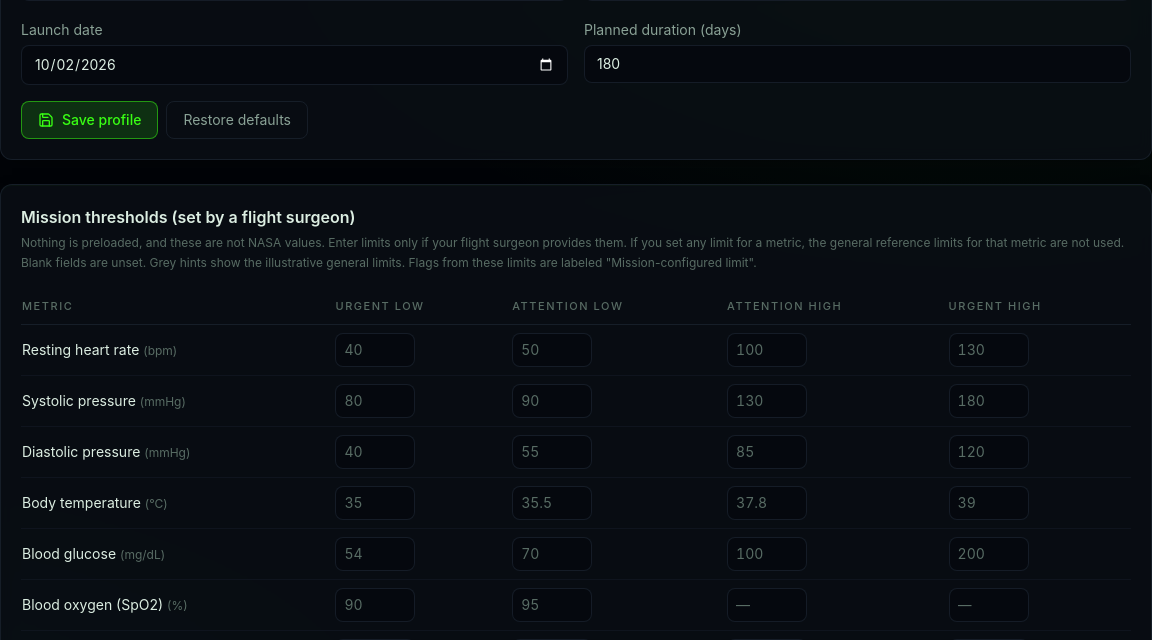
Test case: Settings › saves valid mission thresholds and rejects out-of-order ones
The image size is (1152, 640).
(page scrolled)
Type "70" into the field named "Resting heart rate attention high" at point(767, 350), box [727,333,807,367]
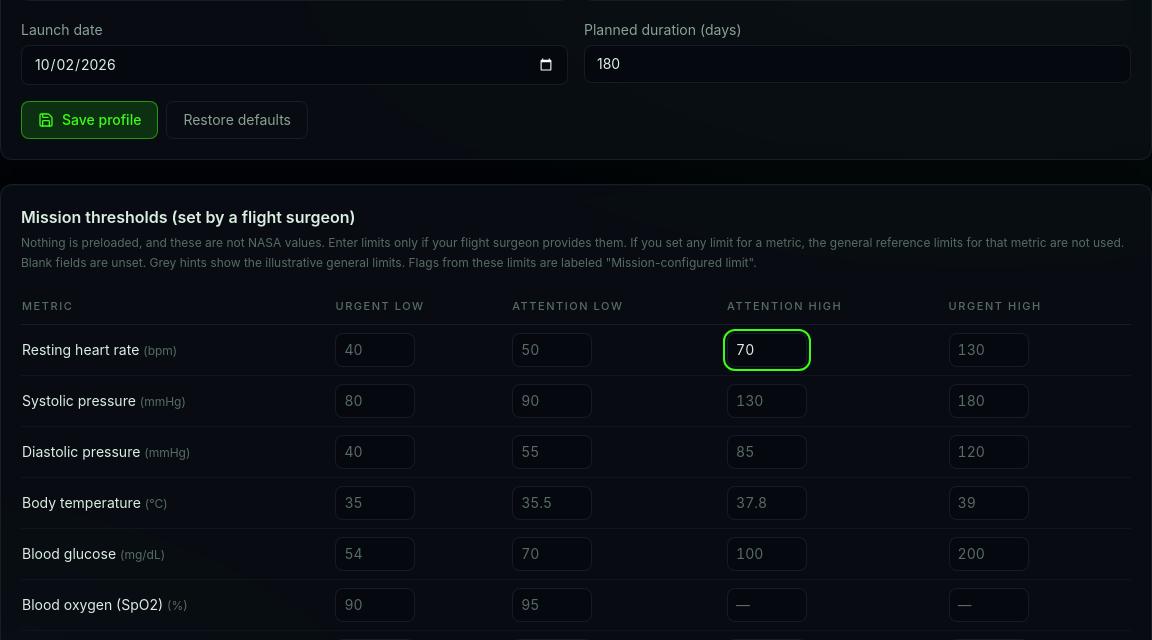
Type "60" into the field named "Resting heart rate urgent high" at point(989, 350), box [949,333,1029,367]
(page scrolled)
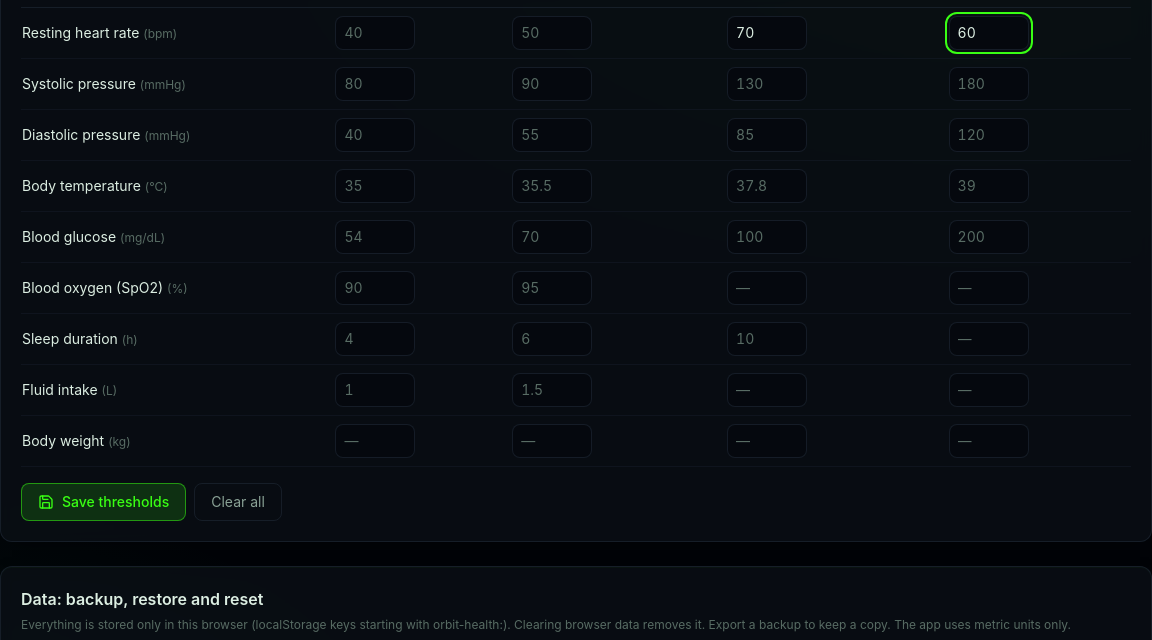
Click the button "Save thresholds" at point(104, 502), box [21,483,186,521]
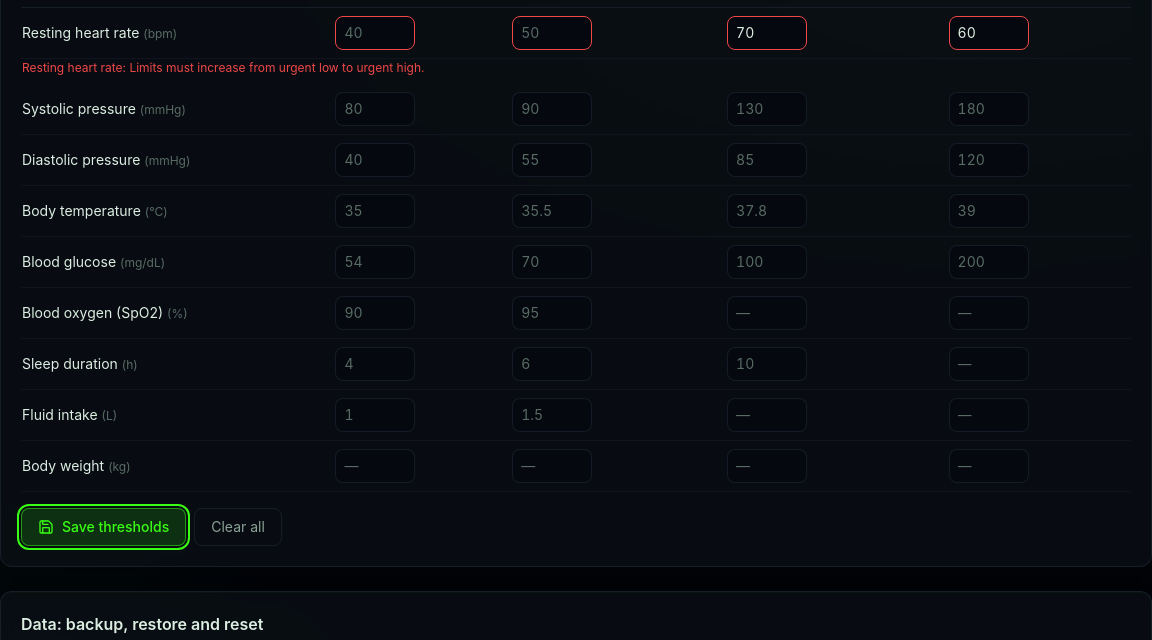
expect the text "Resting heart rate: Limits must increase from urgent low to urgent high." is shown: met, box [22,60,424,75]
Replace the text in the field named "Resting heart rate urgent high" with "120" at point(989, 33), box [949,16,1029,50]
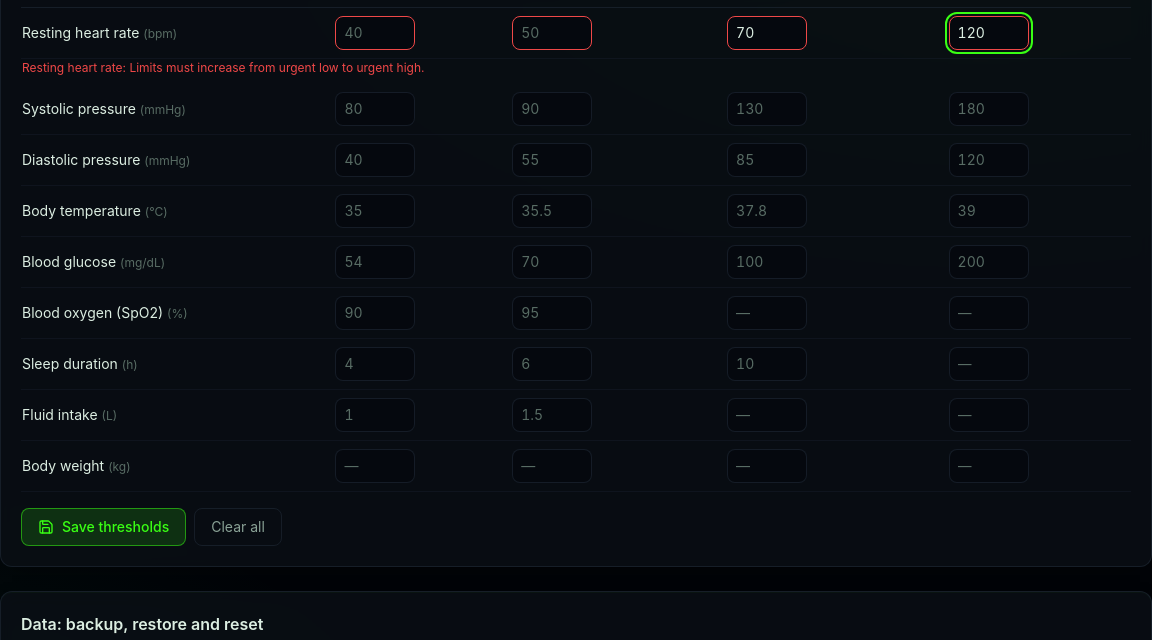
Click the button "Save thresholds" at point(104, 527), box [21,508,186,546]
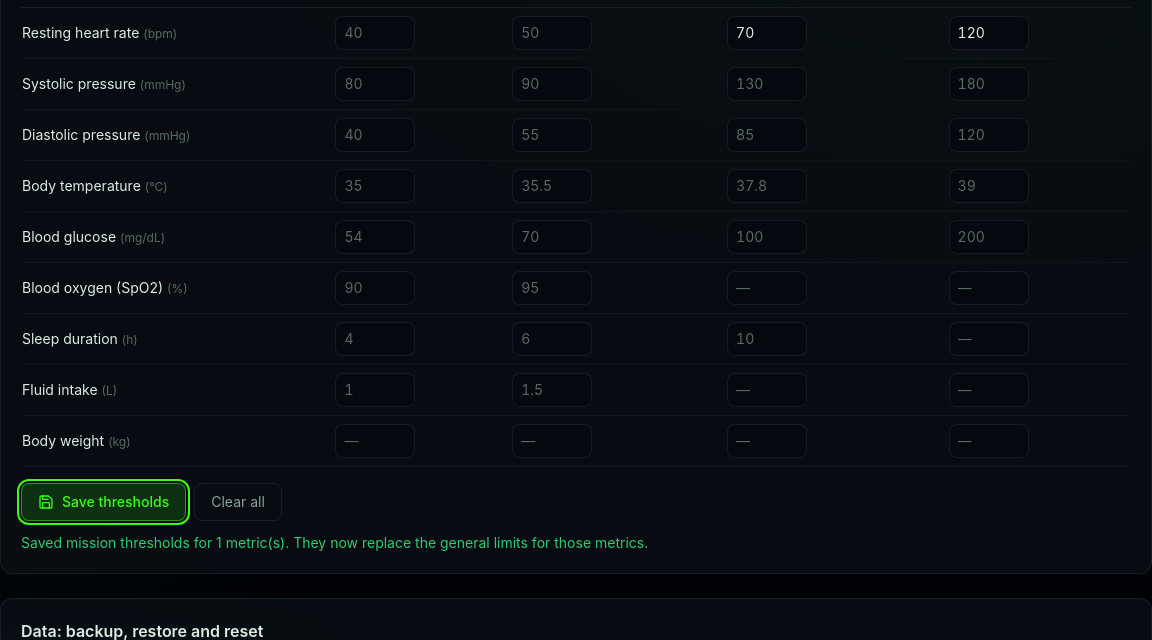
expect the text "Saved mission thresholds" is shown: met, box [21,534,648,551]
